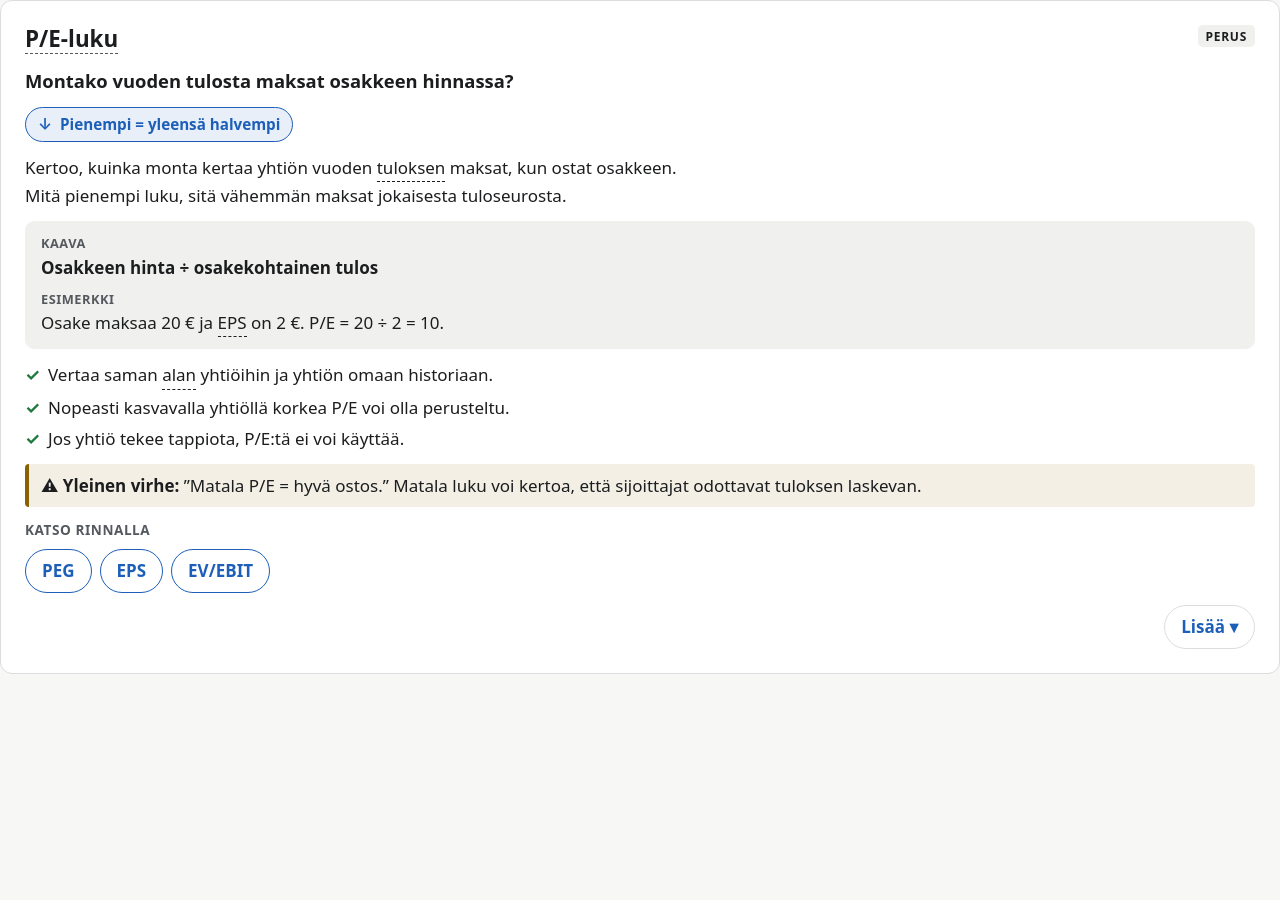
Test case: MetricCard: lyhenteen selitys › näkyy, kun nimeä napautetaan
The image size is (1280, 900).
Click the button "P/E-luku" at point(72, 40), box [25, 25, 118, 54]
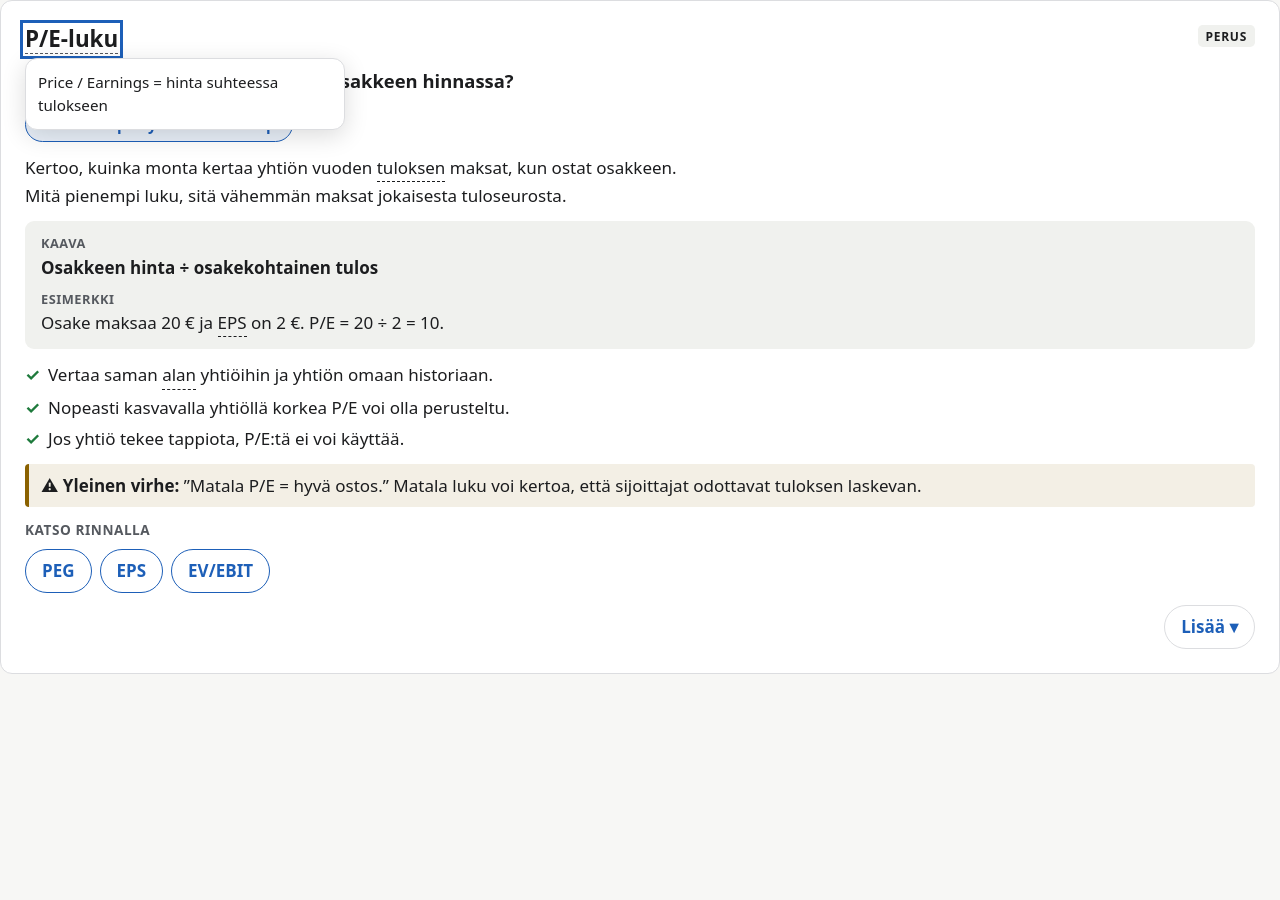
Now the text "Price / Earnings = hinta suhteessa tulokseen" is shown, box [25, 58, 345, 130]
